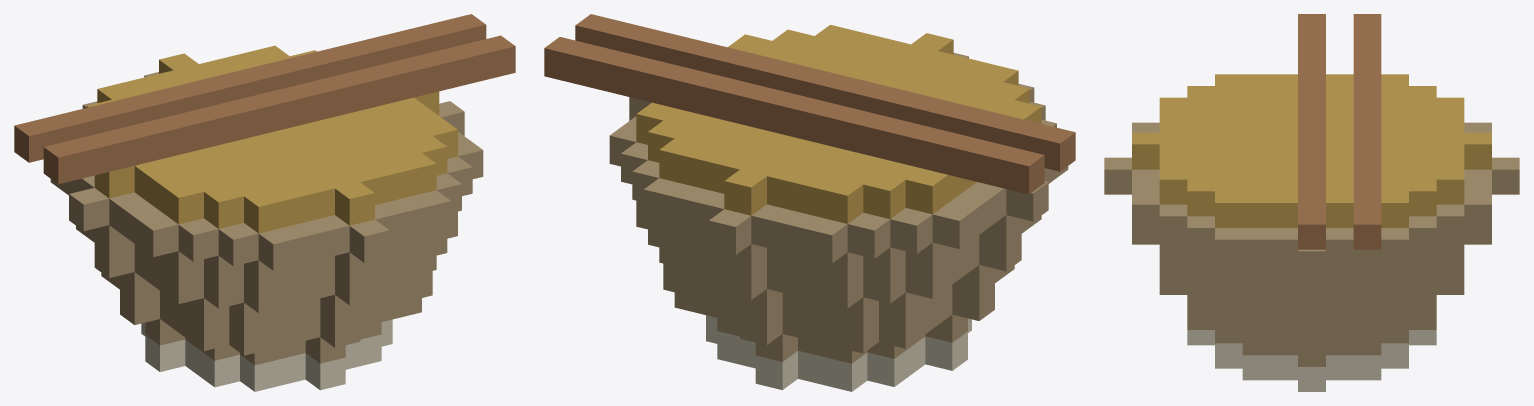
Rendered from pets-02.glb.
The picture shows the model from 3 angles, left to right: view 1: azimuth 30°, elevation 25°; view 2: azimuth 150°, elevation 25°; view 3: azimuth 270°, elevation 25°; orthographic projection. The views are drawn at different scales.
Visible parts, largest first — view 1: Food bowl; view 2: Food bowl; view 3: Food bowl.
Part boxes in pixels (bbox=[...]): Food bowl: bbox=[14, 14, 515, 391]; Food bowl: bbox=[544, 14, 1075, 391]; Food bowl: bbox=[1104, 14, 1519, 391].
Bounding box in the file's own units: 1.44 × 0.72 × 1.2.
